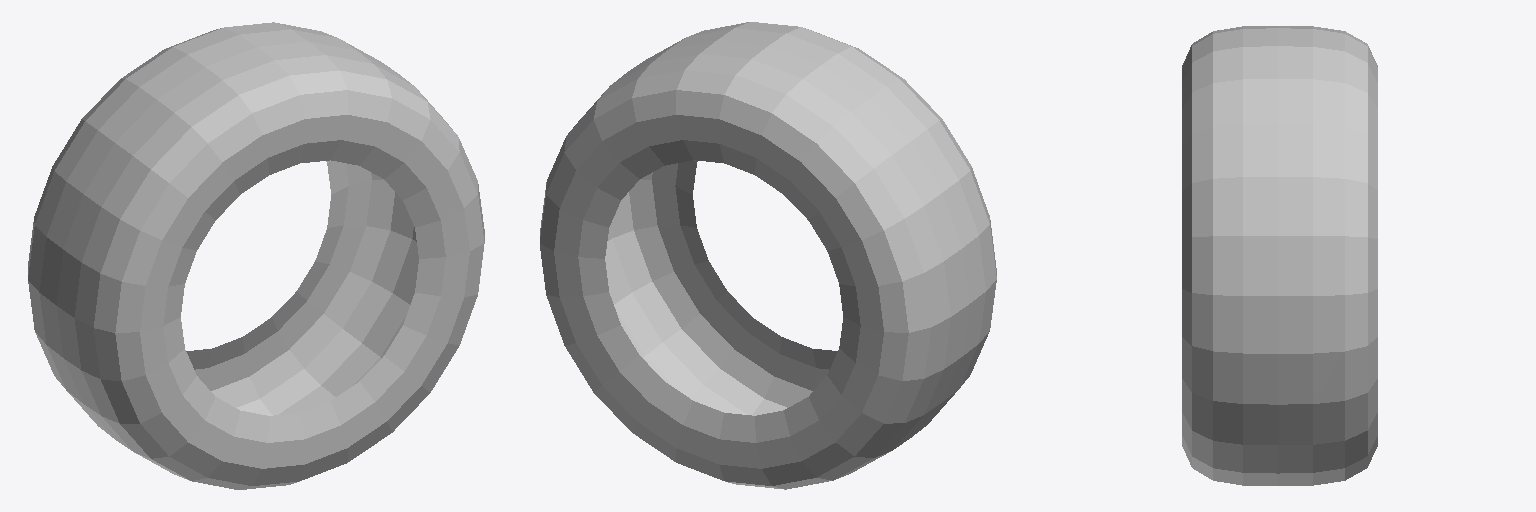
File: tire.obj
3 views of the same model, side by side, from view 1: azimuth 30°, elevation 25°; view 2: azimuth 150°, elevation 25°; view 3: azimuth 270°, elevation 25° (orthographic).
Parts seen in each view (by area): view 1: loftedSurface1; view 2: loftedSurface1; view 3: loftedSurface1.
Part boxes in pixels (bbox=[...]): loftedSurface1: bbox=[28, 22, 484, 489]; loftedSurface1: bbox=[540, 22, 996, 489]; loftedSurface1: bbox=[1182, 26, 1377, 485].
Size of the model in its own units: 2.17 by 2.17 by 0.9182.